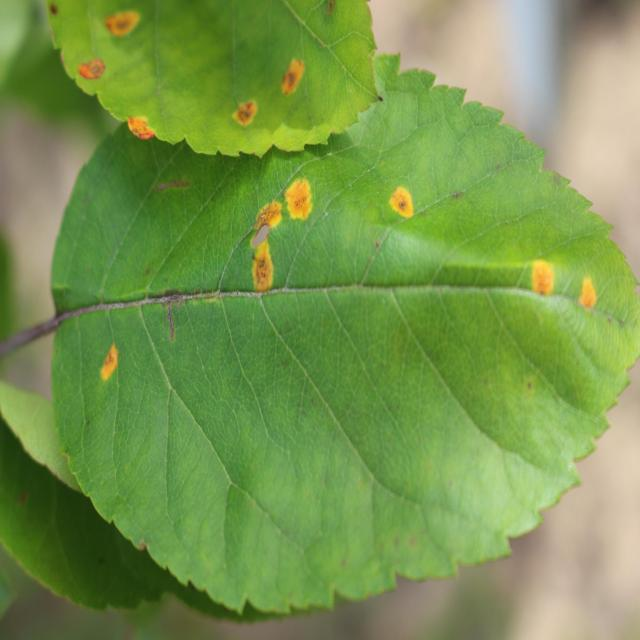Rust: (245, 176, 285, 304), (95, 318, 123, 394), (388, 174, 419, 237), (286, 172, 317, 234), (529, 254, 559, 316), (577, 264, 600, 326), (277, 54, 306, 101), (232, 93, 261, 135), (98, 8, 141, 36), (126, 115, 160, 146), (77, 60, 109, 76)
